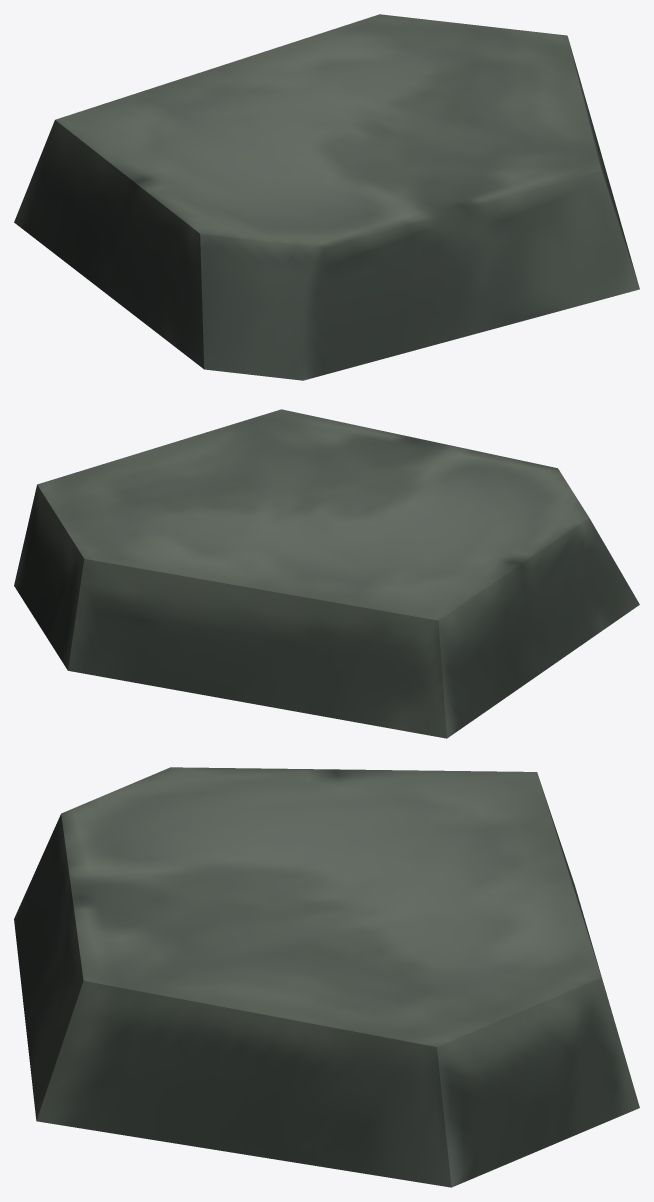
The model's file is ROK0210001.fbx.
3 renders of one model, top to bottom at view 1: azimuth 30°, elevation 25°; view 2: azimuth 150°, elevation 25°; view 3: azimuth 270°, elevation 25°, orthographic. The views are drawn at different scales.
Parts seen in each view (by area): view 1: smROK0210001; view 2: smROK0210001; view 3: smROK0210001.
Part boxes in pixels (box(x1,y1,x2,y2)): smROK0210001: box(14, 14, 639, 380); smROK0210001: box(14, 409, 639, 738); smROK0210001: box(14, 767, 639, 1187).
Size of the model in its own units: 38.57 by 7.64 by 33.43.
1 material, 1 textured.
